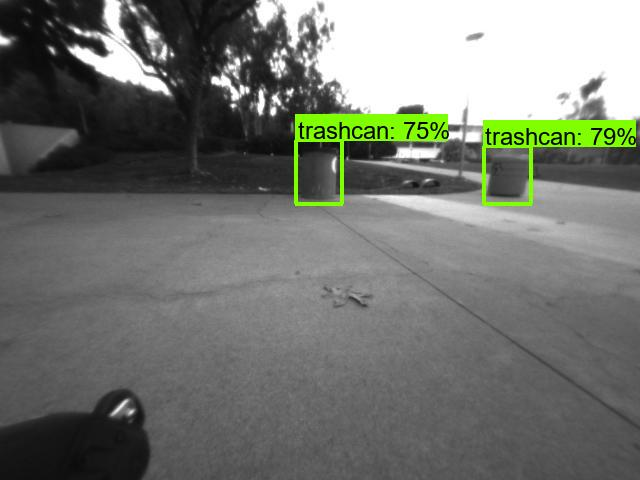trashcan: (486, 147, 533, 206), (299, 144, 340, 208)
